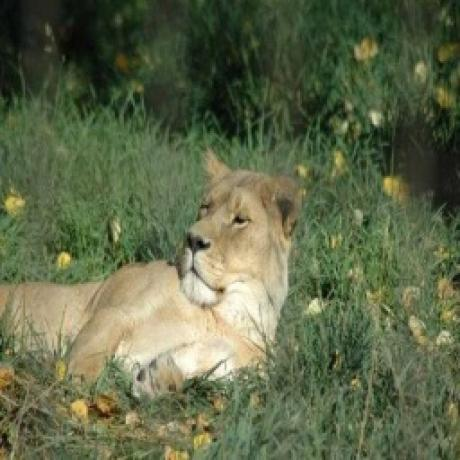Lion: (0, 142, 308, 409)
